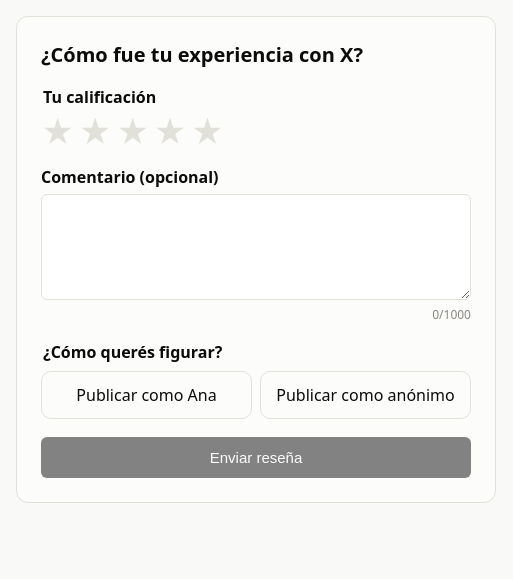
Test: ResenaPublicaPage › si el token se usó en el medio, muestra el error del backend
Click the radio button named "5 estrellas" at [208, 132], box [191,116,224,148]
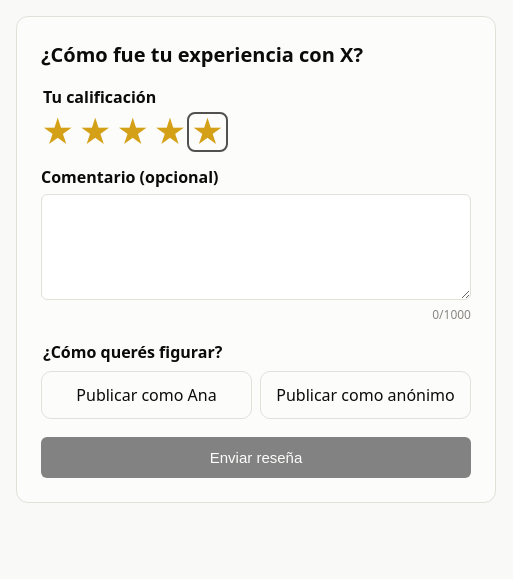
Click the button "Publicar como anónimo" at [366, 395], box [260,371,471,419]
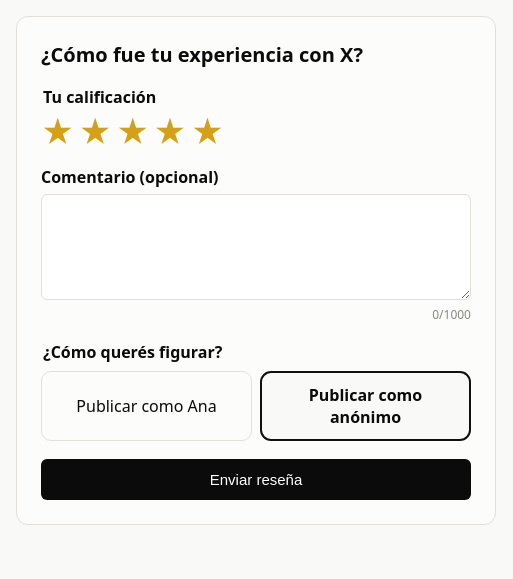
Click the button "Enviar reseña" at [256, 480], box [41,459,471,500]
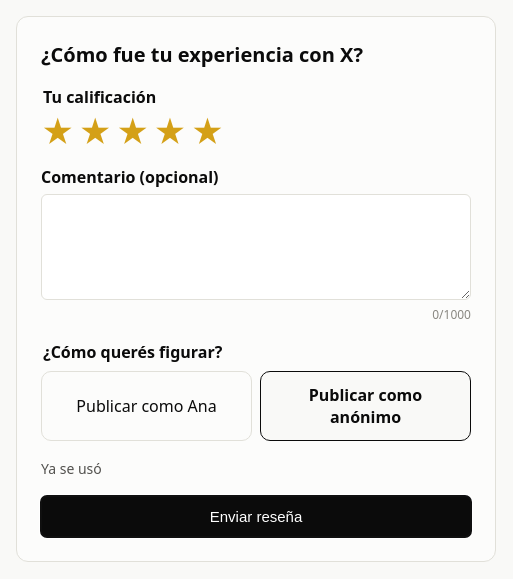
Result: the text "Ya se usó" is shown at [41,459,102,478]
